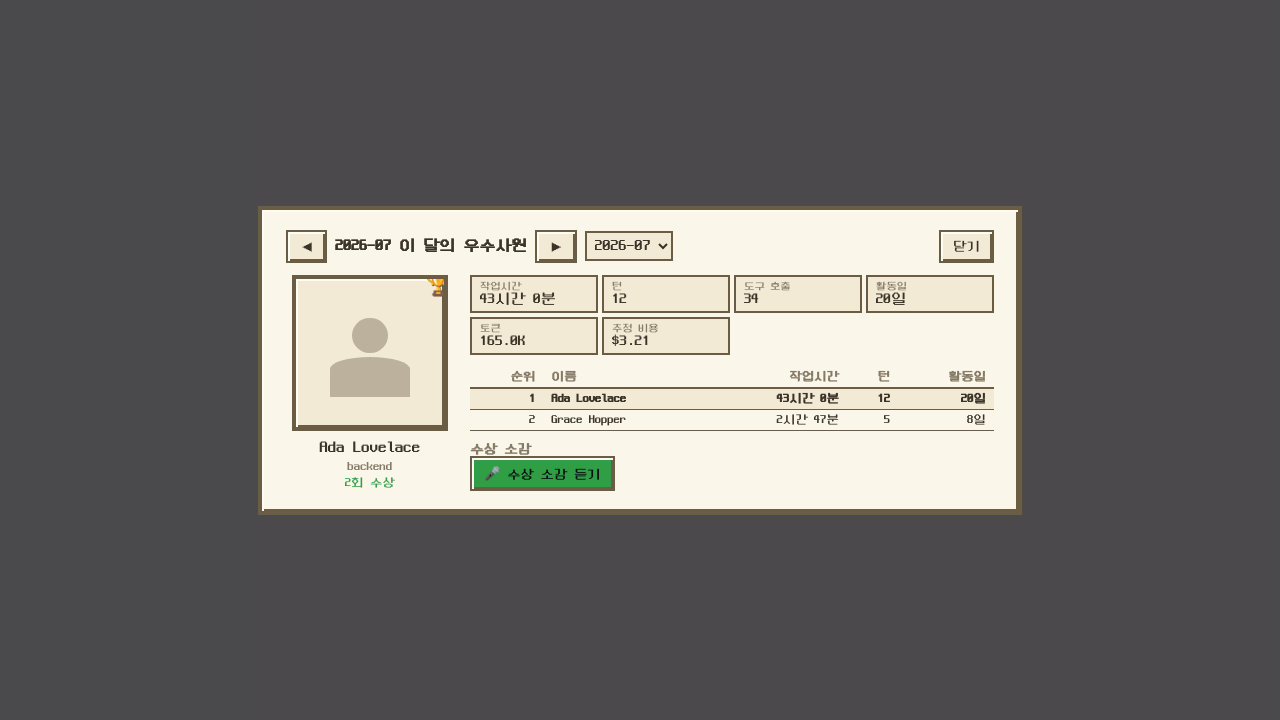
Test: 월 네비게이션 › ◀/▶로 확정된 달 사이를 이동하고 양끝에서 비활성화된다
This screenshot has width=1280, height=720.
Expected: the element with class "awards-left" shows "Ada Lovelace", [320, 438, 420, 456]
Expected: the button named "다음 달" is disabled, [535, 230, 577, 262]
What coordinates should you click on to do the following:
click the button named "이전 달"
I would click on:
 (307, 246)
Its box is [286, 230, 327, 262].
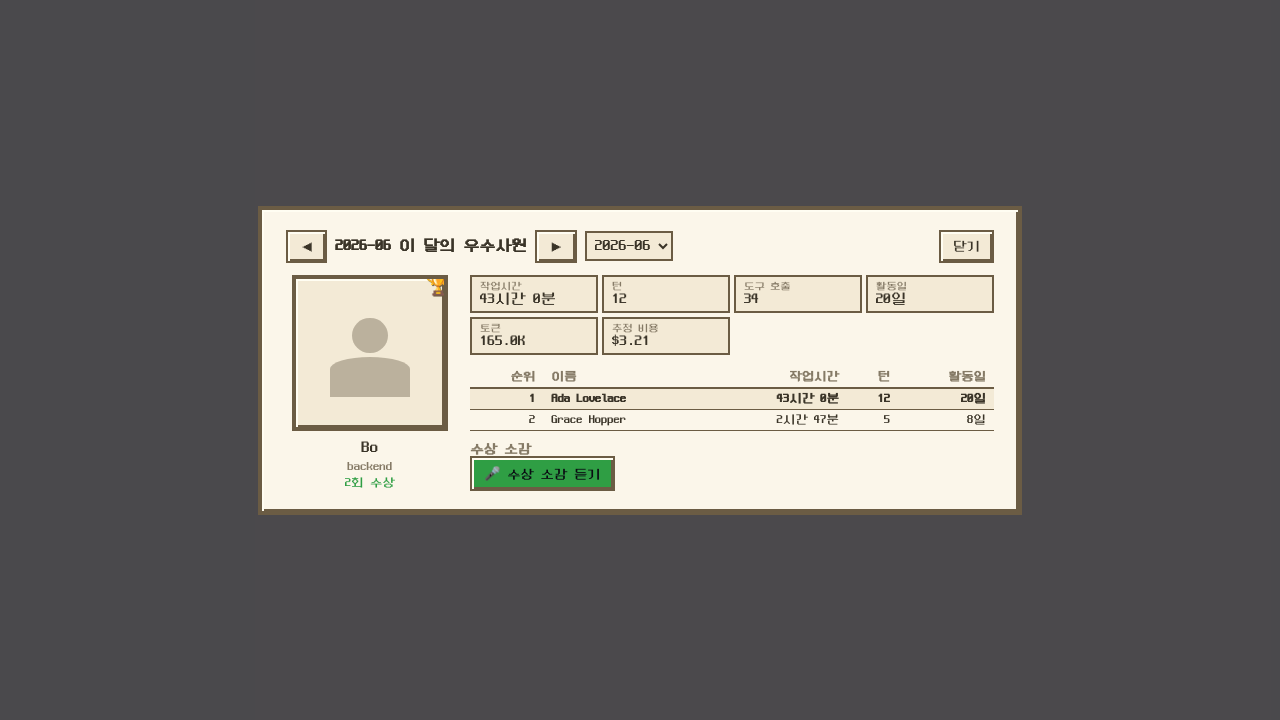
Now the element with class "awards-left" shows "Bo", box [362, 438, 378, 456]
What coordinates should you click on to do the following:
click the button named "다음 달"
I would click on:
 (556, 246)
Its box is [535, 230, 577, 262].
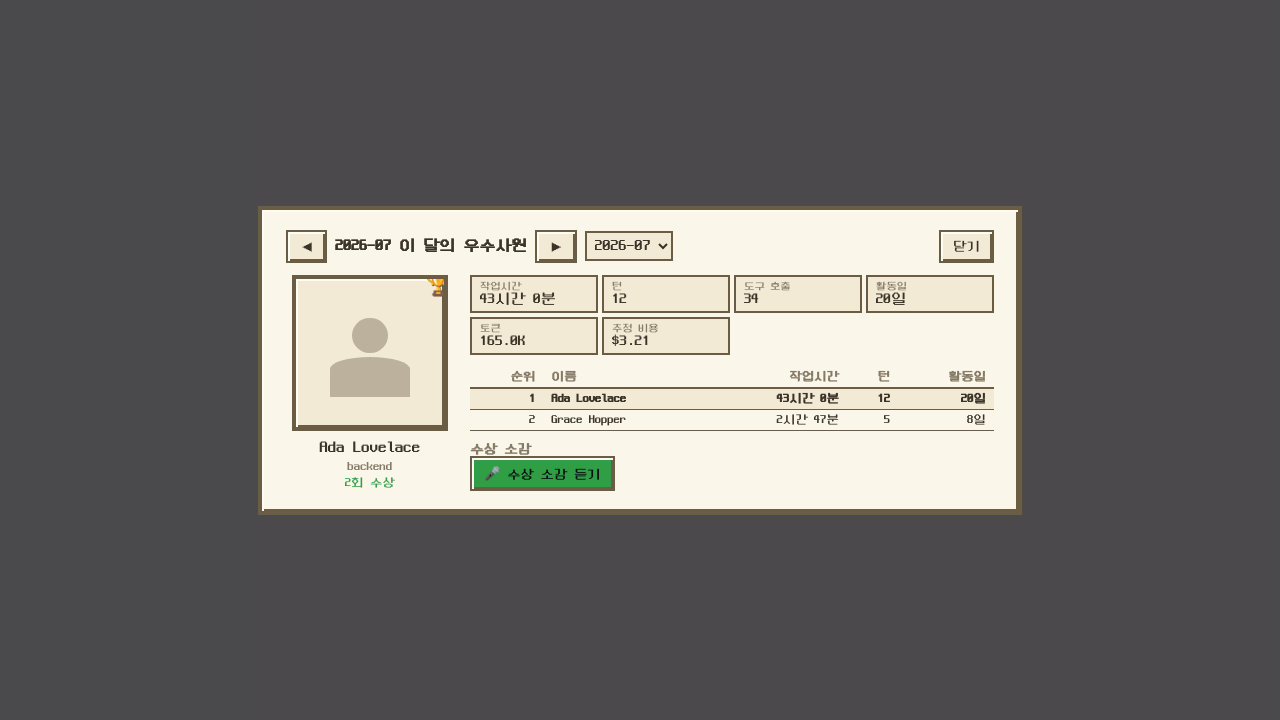
Now the element with class "awards-left" shows "Ada Lovelace", box [320, 438, 420, 456]
